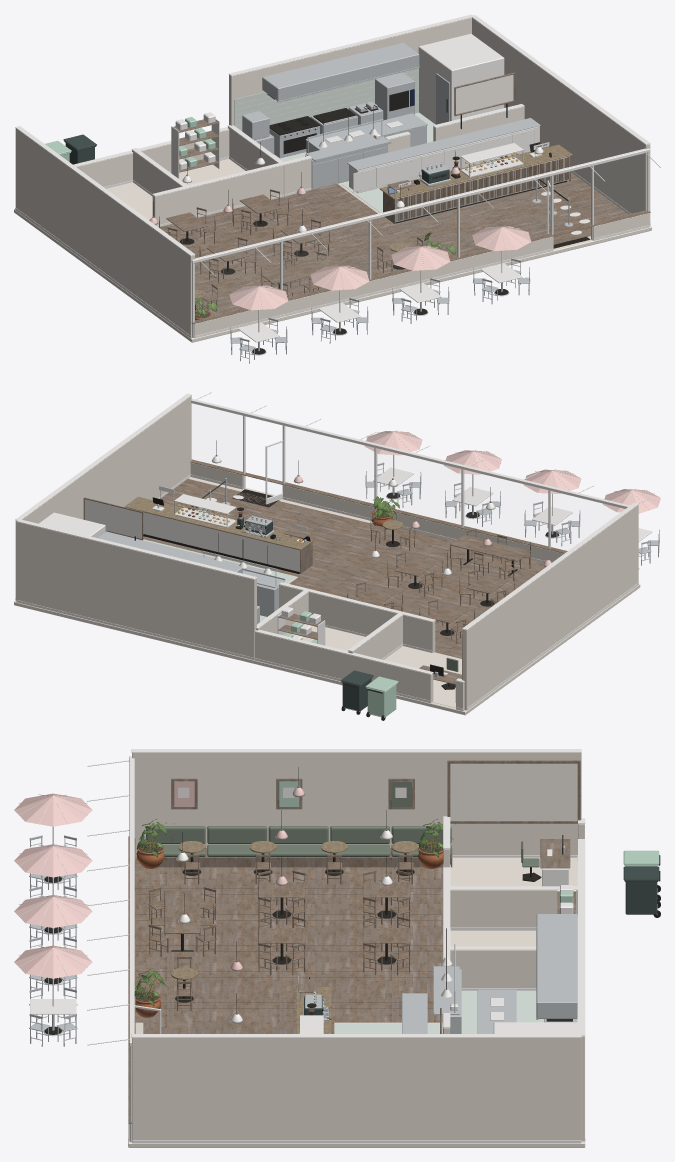
Rendered from cafe-table.glb.
3 renders of one model, top to bottom at view 1: azimuth 30°, elevation 25°; view 2: azimuth 150°, elevation 25°; view 3: azimuth 270°, elevation 25°, orthographic. The views are drawn at different scales.
Visible parts, largest first — view 1: cafe_plaster_cream 27, cafe_white 5, cafe_floor_honey 26, cafe_steel_brushed 1, cafe_oak_light 4, cafe_blush 21, cafe_tile_mint 25, cafe_charcoal 2, cafe_terrazzo 16, cafe_board_face 17, cafe_powder_blue 9, cafe_mint 7; view 2: cafe_plaster_cream 27, cafe_white 5, cafe_floor_honey 26, cafe_oak_light 4, cafe_steel_brushed 1, cafe_blush 21, cafe_charcoal 2, cafe_terrazzo 16, cafe_mint 7, cafe_powder_blue 9; view 3: cafe_plaster_cream 27, cafe_floor_honey 26, cafe_oak_light 4, cafe_white 5, cafe_steel_brushed 1, cafe_blush 21, cafe_lilac 19, cafe_board_face 17, cafe_charcoal 2, cafe_tile_mint 25, cafe_terrazzo 16, cafe_powder_blue 9 (+3 smaller).
Part boxes in pixels (bbox=[...]): cafe_plaster_cream 27: bbox=[14, 17, 651, 342]; cafe_white 5: bbox=[15, 14, 660, 342]; cafe_floor_honey 26: bbox=[160, 172, 628, 337]; cafe_steel_brushed 1: bbox=[230, 42, 573, 363]; cafe_oak_light 4: bbox=[152, 72, 650, 323]; cafe_blush 21: bbox=[149, 167, 531, 310]; cafe_tile_mint 25: bbox=[234, 68, 530, 212]; cafe_charcoal 2: bbox=[153, 90, 590, 354]; cafe_terrazzo 16: bbox=[195, 144, 572, 299]; cafe_board_face 17: bbox=[456, 74, 513, 114]; cafe_powder_blue 9: bbox=[63, 134, 568, 201]; cafe_mint 7: bbox=[45, 117, 215, 167]; cafe_plaster_cream 27: bbox=[14, 396, 640, 715]; cafe_white 5: bbox=[15, 392, 659, 710]; cafe_floor_honey 26: bbox=[143, 479, 545, 658]; cafe_oak_light 4: bbox=[83, 455, 638, 684]; cafe_steel_brushed 1: bbox=[98, 462, 659, 717]; cafe_blush 21: bbox=[293, 431, 660, 566]; cafe_charcoal 2: bbox=[143, 440, 558, 720]; cafe_terrazzo 16: bbox=[125, 496, 403, 550]; cafe_mint 7: bbox=[283, 611, 398, 717]; cafe_powder_blue 9: bbox=[201, 481, 373, 711]; cafe_plaster_cream 27: bbox=[128, 752, 585, 1147]; cafe_floor_honey 26: bbox=[135, 857, 442, 1033]; cafe_oak_light 4: bbox=[128, 760, 580, 1123]; cafe_white 5: bbox=[19, 749, 585, 1143]; cafe_steel_brushed 1: bbox=[29, 835, 657, 1046]; cafe_blush 21: bbox=[14, 781, 304, 978]; cafe_lilac 19: bbox=[146, 781, 539, 867]; cafe_board_face 17: bbox=[450, 763, 577, 821]; cafe_charcoal 2: bbox=[44, 767, 660, 1034]; cafe_tile_mint 25: bbox=[334, 916, 577, 1033]; cafe_terrazzo 16: bbox=[171, 841, 418, 1033]; cafe_powder_blue 9: bbox=[304, 866, 659, 1015].
Bounding box in the file's own units: 0.6068 × 0.1092 × 0.5757.
28 materials, 8 textured.
